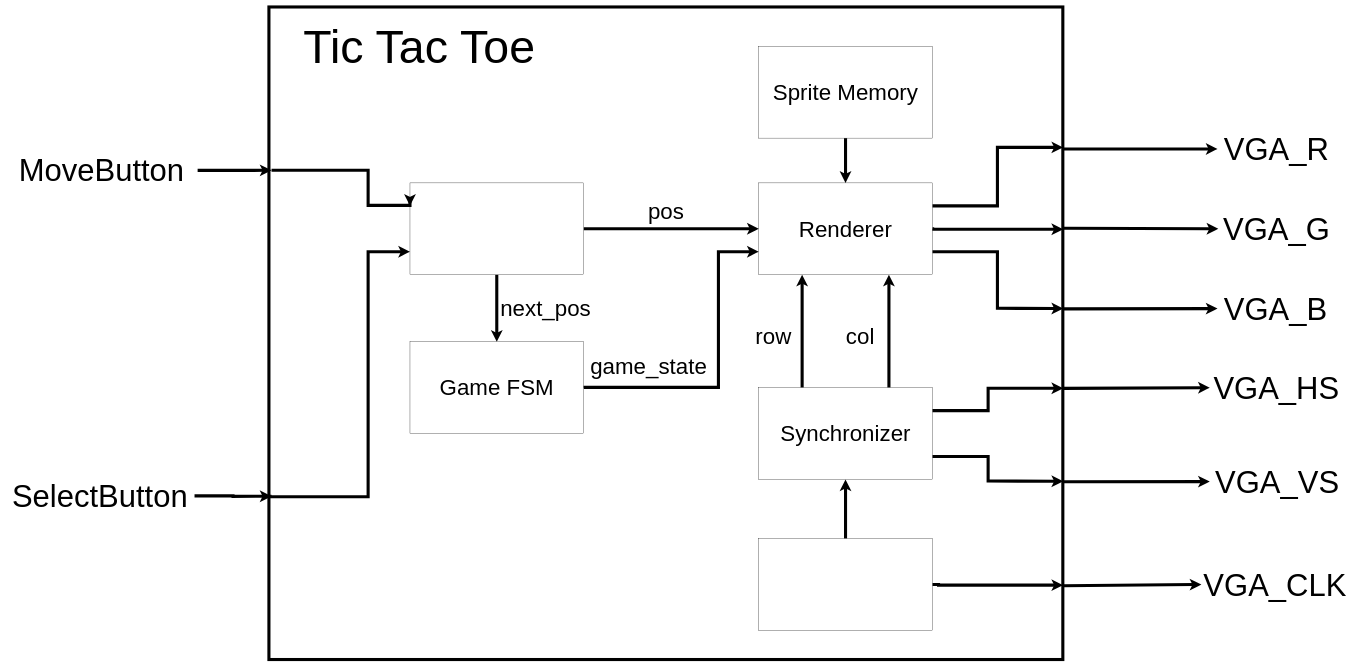
Some shapes in this 1354 by 666 pixel diagram are drawn without their labels. Here are the shapes that lost their labels. From the top down, the box of each, then its label:
(410, 183, 584, 275): Select Position FSM
(758, 538, 932, 630): Video Clock Generator
